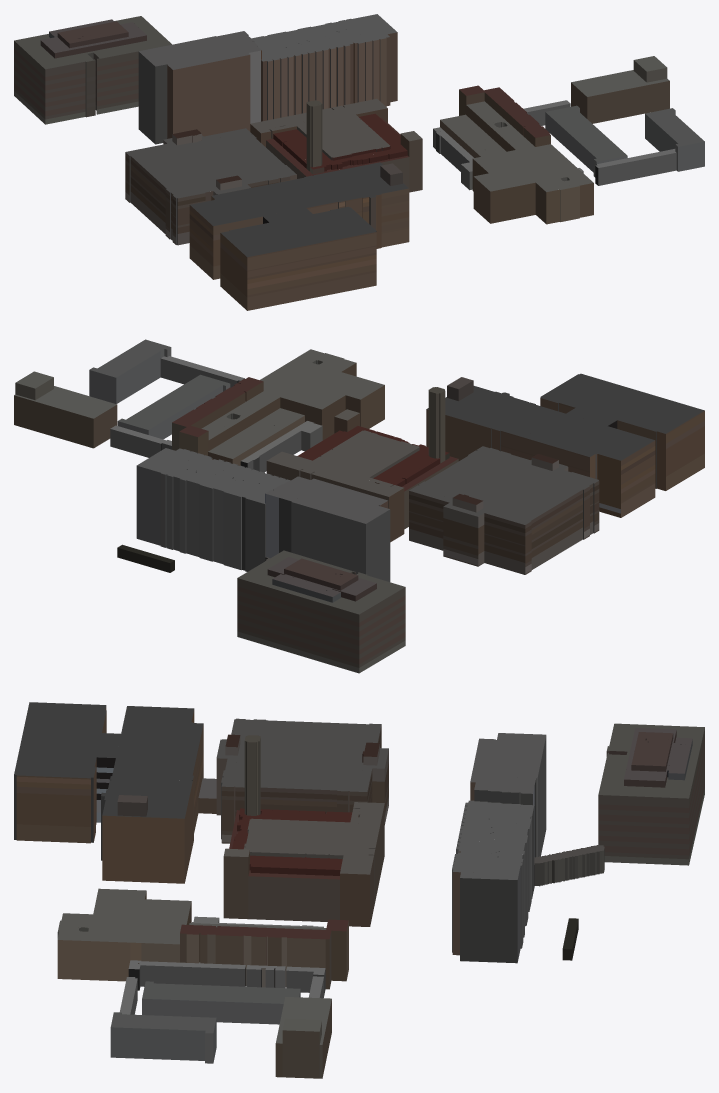
The model's file is t_1_-1.far.glb.
3 renders of one model, top to bottom at view 1: azimuth 30°, elevation 25°; view 2: azimuth 150°, elevation 25°; view 3: azimuth 270°, elevation 25°, orthographic. The views are drawn at different scales.
Parts seen in each view (by area): view 1: opaque; view 2: opaque; view 3: opaque.
Boxes of the visible parts, x1,y1,x2,y2 form: opaque: [14, 14, 704, 310]; opaque: [14, 339, 704, 673]; opaque: [14, 702, 704, 1078].
Size of the model in its own units: 267 by 49 by 250.
1 material, 1 textured.
